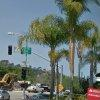Palm tree: (32, 3, 98, 86)
